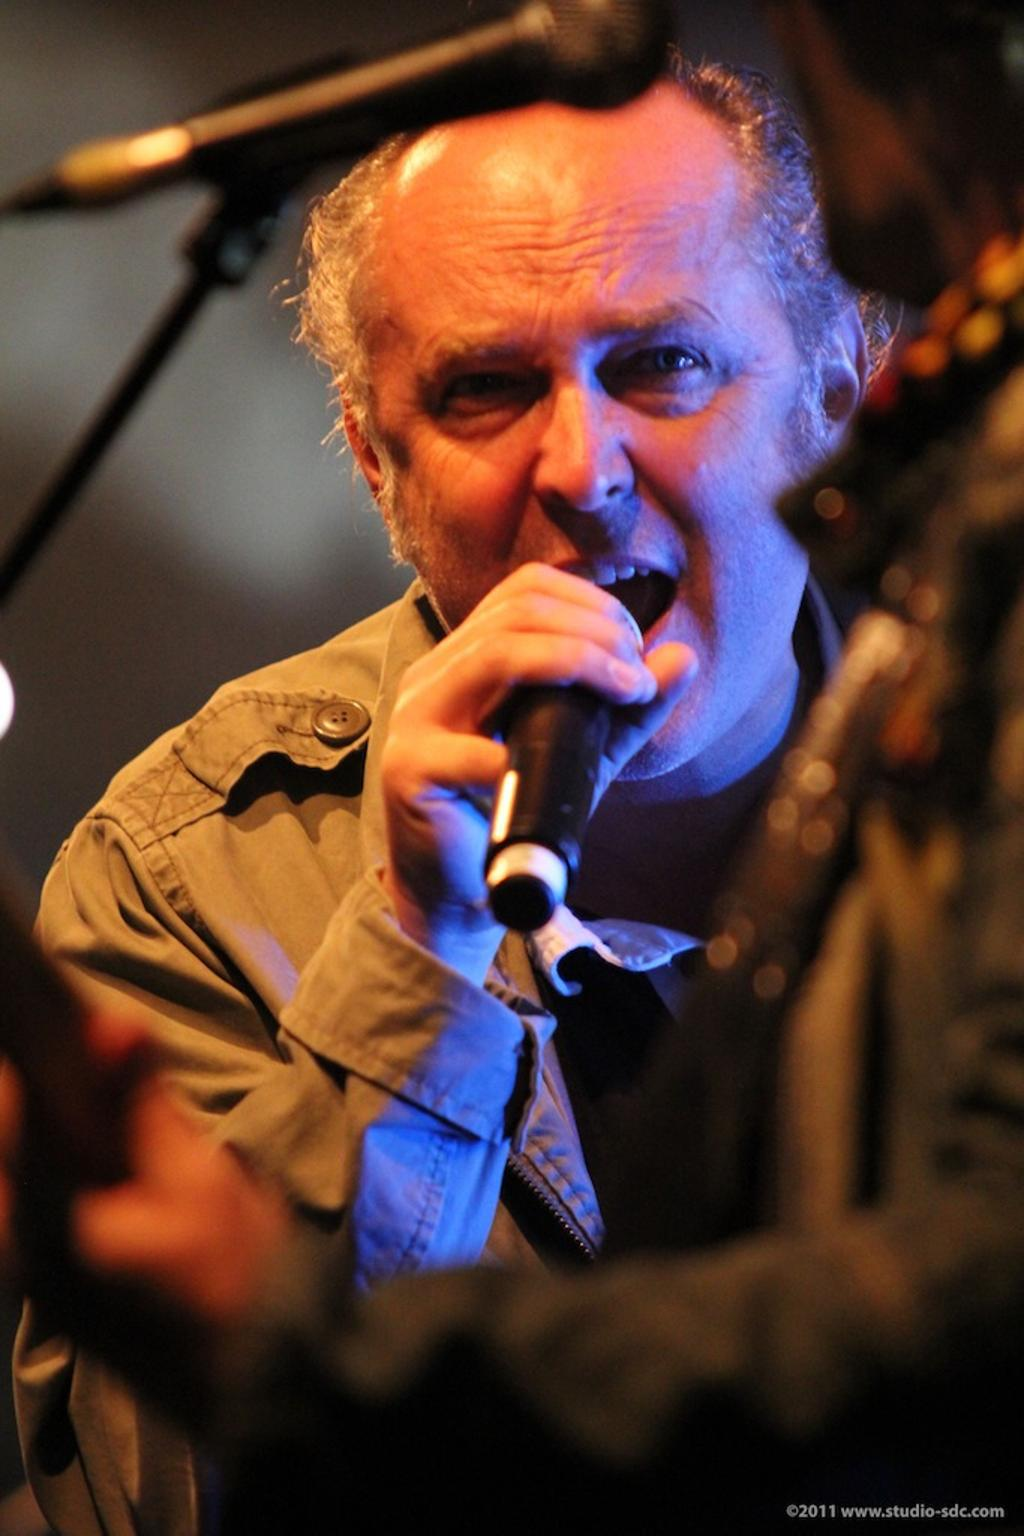face: (366, 100, 815, 771)
